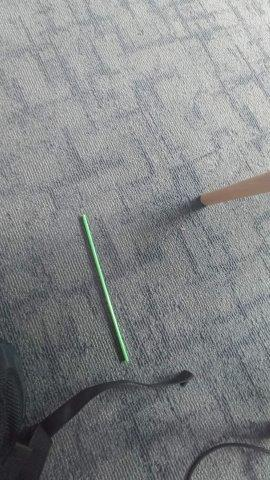sedotan: (83, 218, 127, 361)
